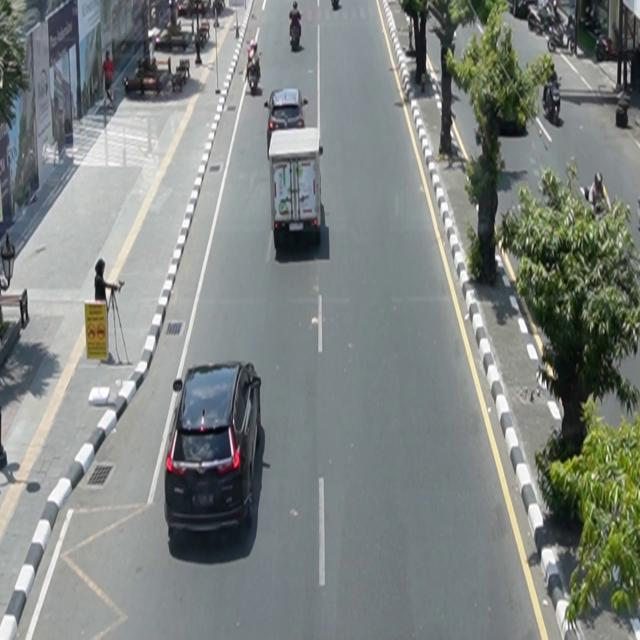bus: (269, 127, 325, 247)
car: (165, 361, 263, 538), (265, 88, 309, 161)
